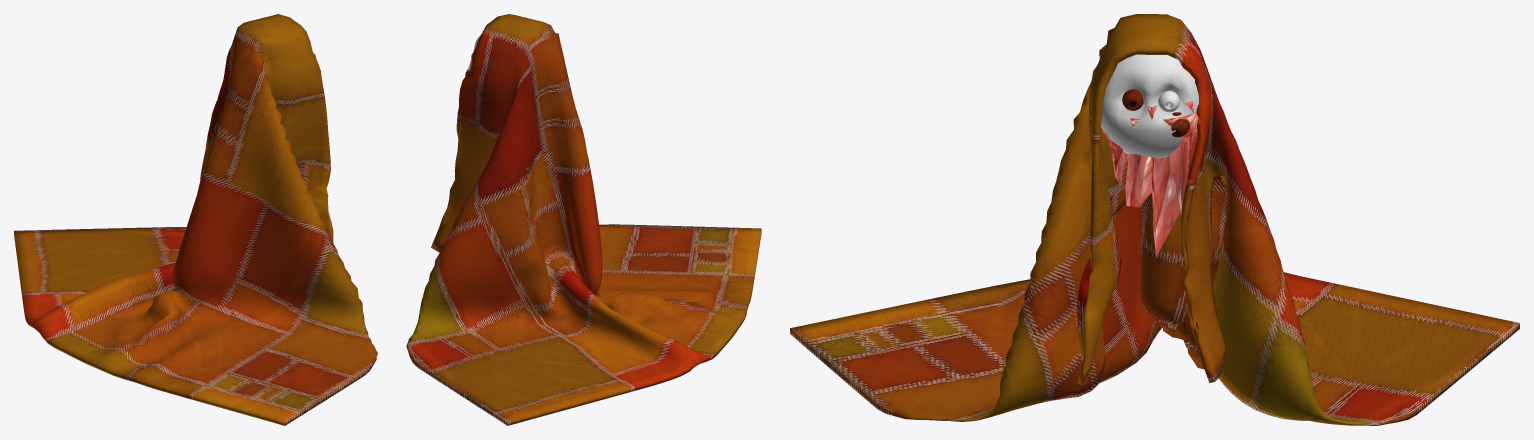
File: Posast1.gltf
3 views of the same model, side by side, from view 1: azimuth 30°, elevation 25°; view 2: azimuth 150°, elevation 25°; view 3: azimuth 270°, elevation 25° (orthographic). The views are drawn at different scales.
Parts seen in each view (by area): view 1: blago; view 2: blago; view 3: blago, Sphere, glava.
Boxes of the visible parts, <box> form: blago: <box>14,14,377,425</box>; blago: <box>406,14,761,425</box>; blago: <box>790,14,1519,425</box>; Sphere: <box>1101,54,1198,158</box>; glava: <box>1100,101,1198,256</box>.
Bounding box in the file's own units: 7.38 × 7.19 × 12.26.
3 materials, 3 textured.
